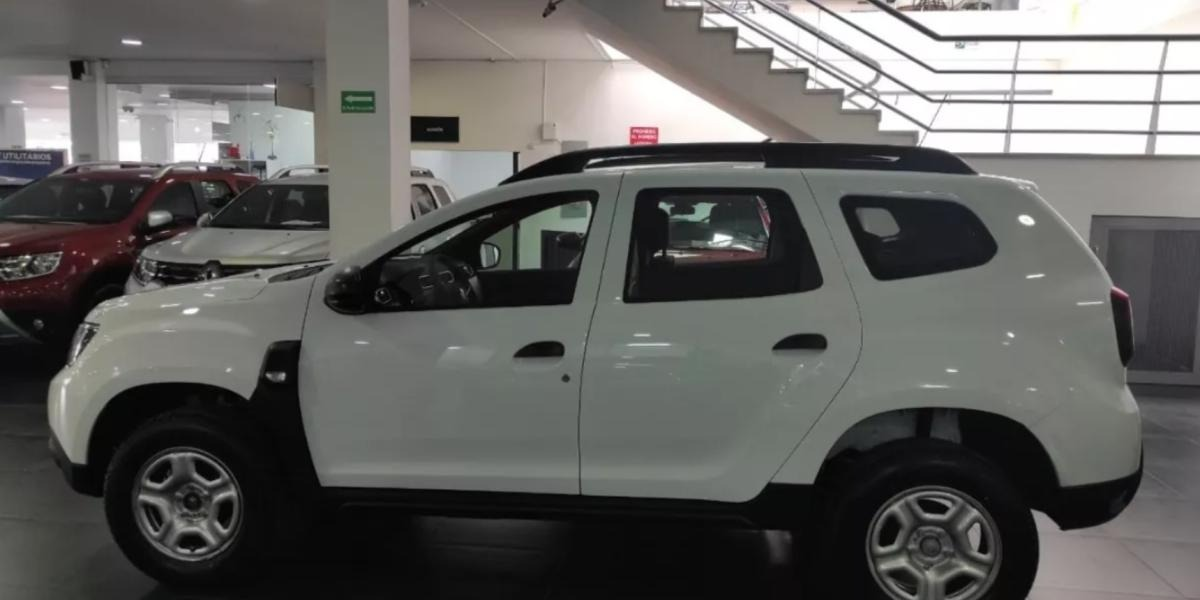car: (36, 141, 1144, 596), (1, 166, 265, 358), (85, 172, 328, 313), (143, 172, 341, 285), (139, 160, 266, 219), (1, 157, 84, 220)
